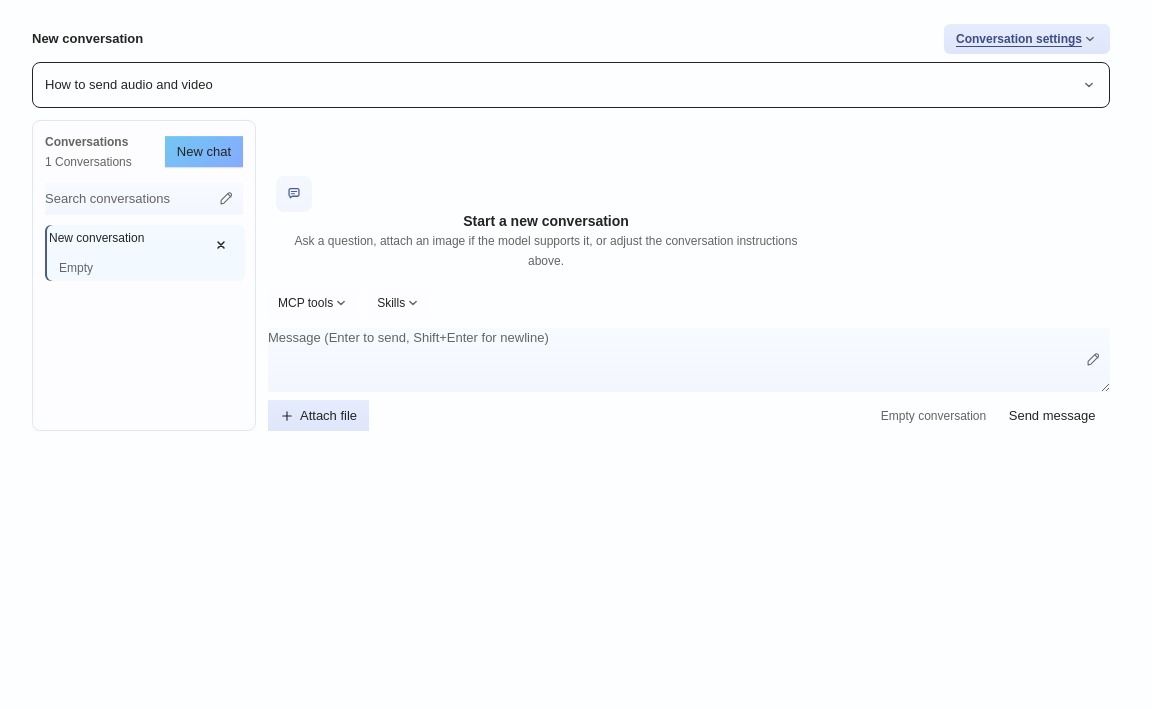
Scenario: retains a request error when an earlier MCP discovery completes with failure
The image size is (1152, 709).
Click the heading "MCP tools".
click(314, 304)  # box [268,288,359,320]
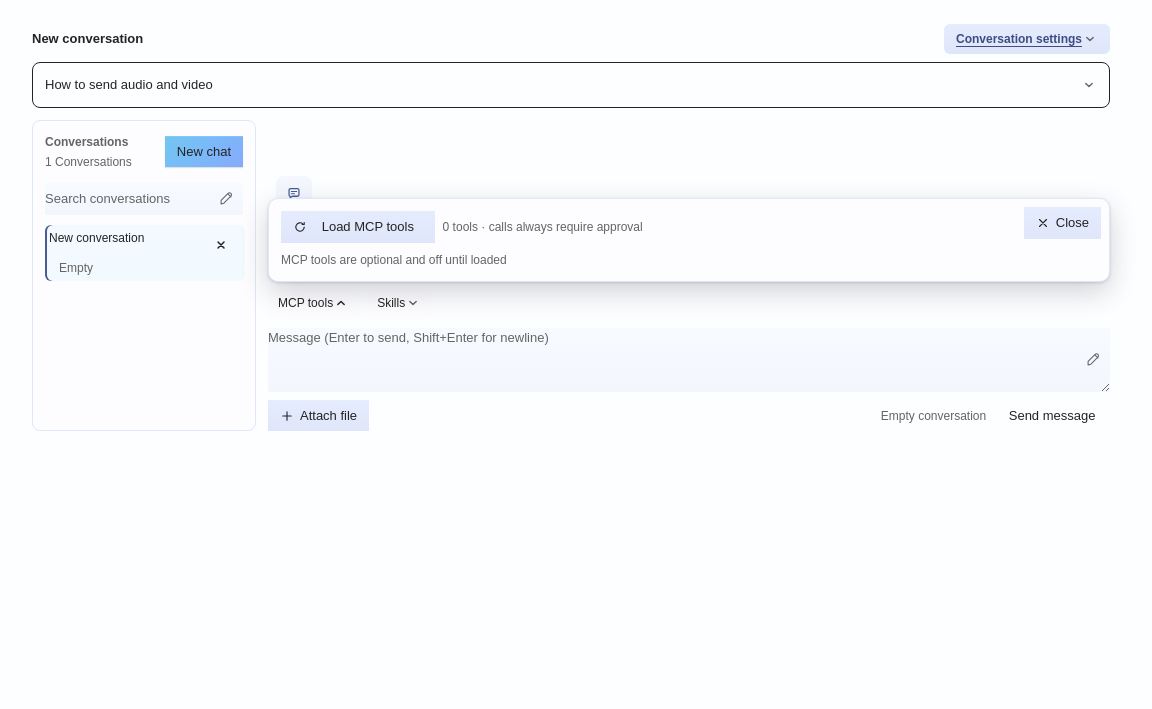
Click the button named "Load MCP tools".
click(358, 227)  # box [281,211,435,243]
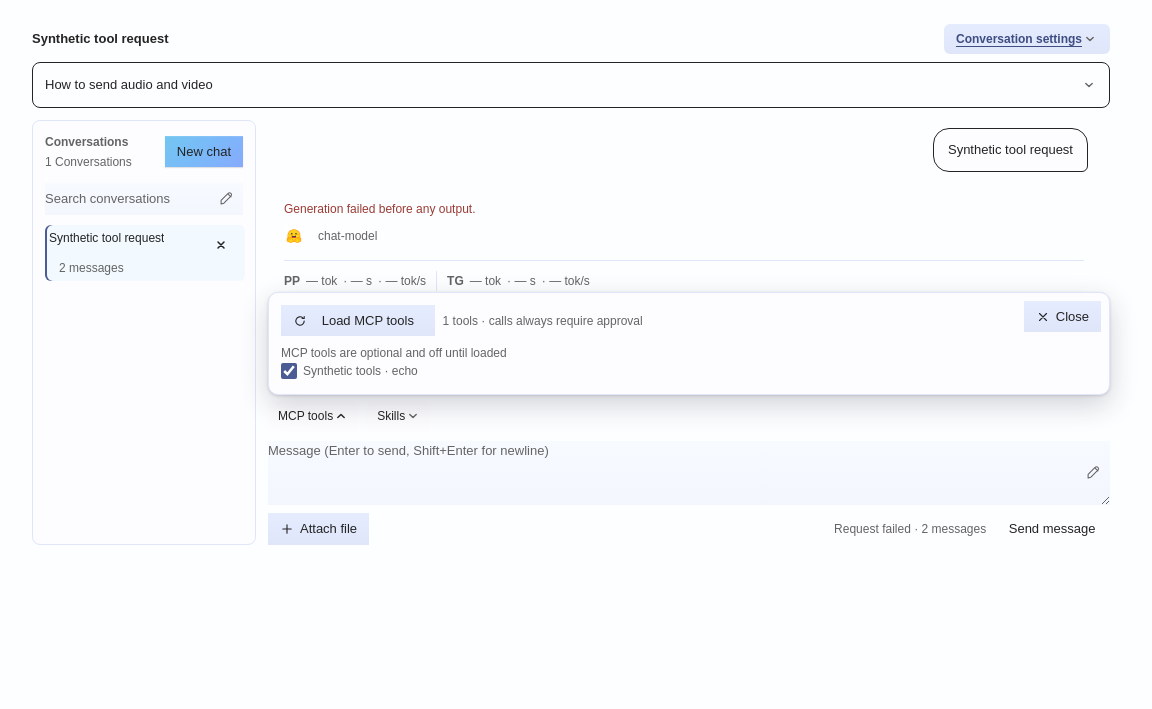
Check: the button named "Load MCP tools" is enabled
Check: the text "Synthetic tools · echo" is shown, box [303,362,418,380]
Click the button named "Load MCP tools".
click(358, 321)  # box [281,305,435,336]
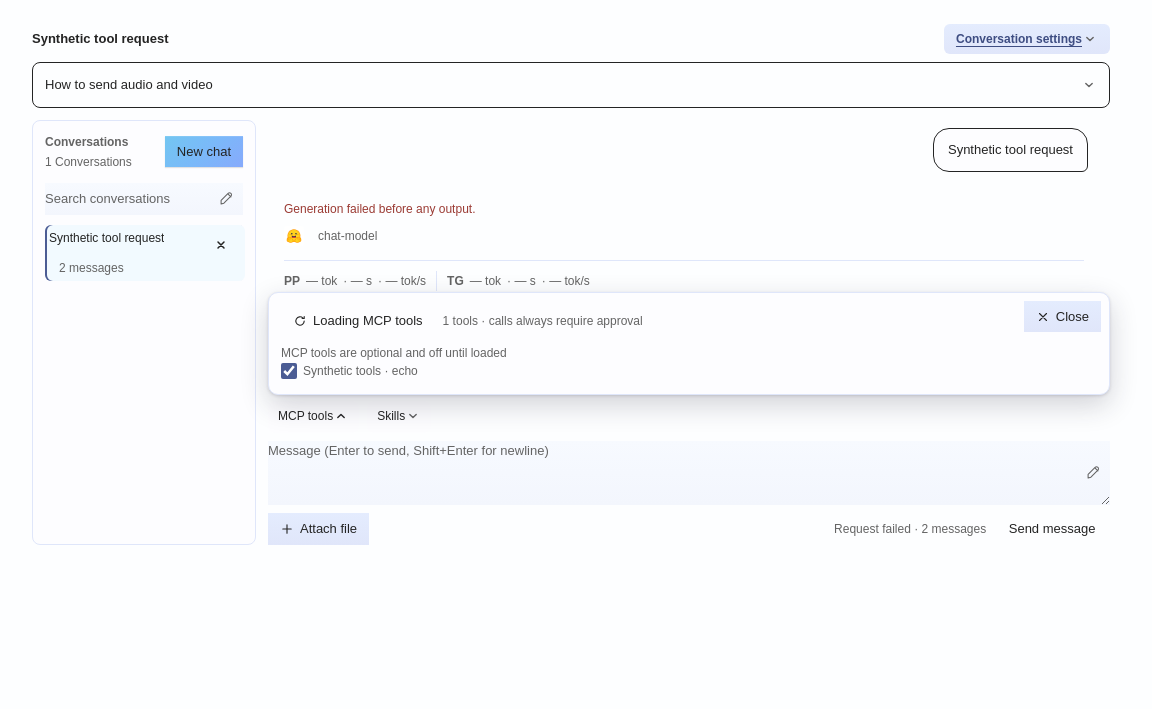
Type "Synthetic tool request" into the text box named "Chat message".
click(689, 473); type("Synthetic tool request")  # box [268,441,1110,505]
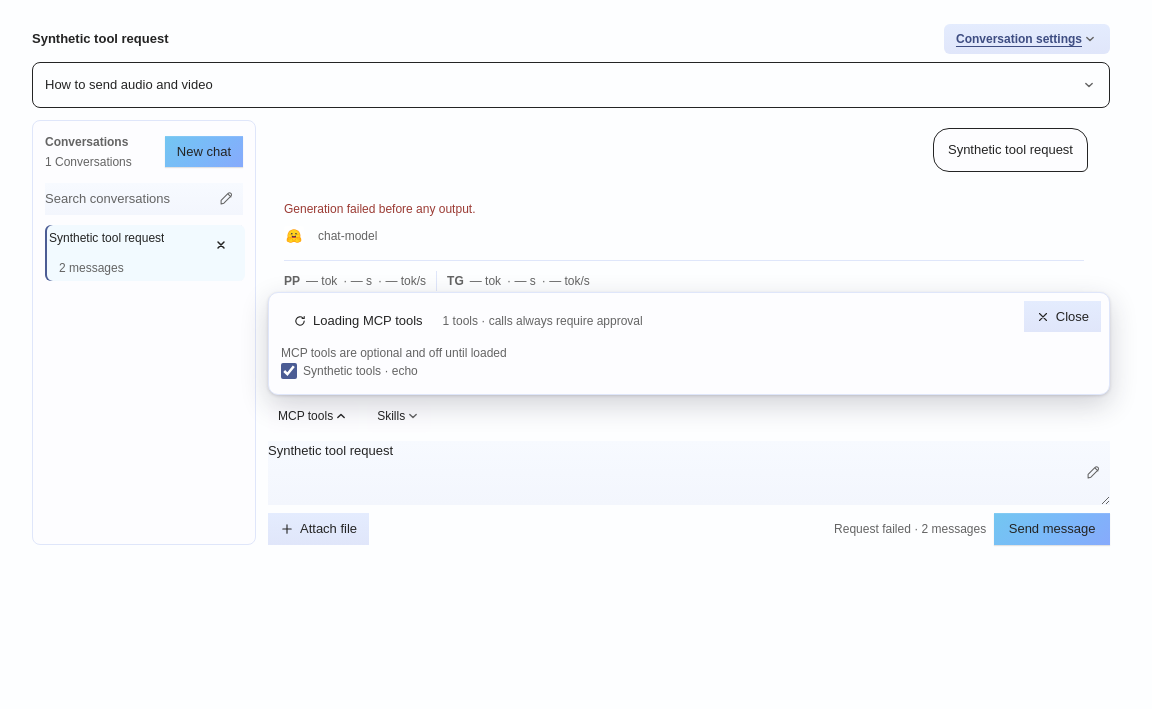
Click the button named "Send message".
click(1052, 529)  # box [994,513,1110,545]
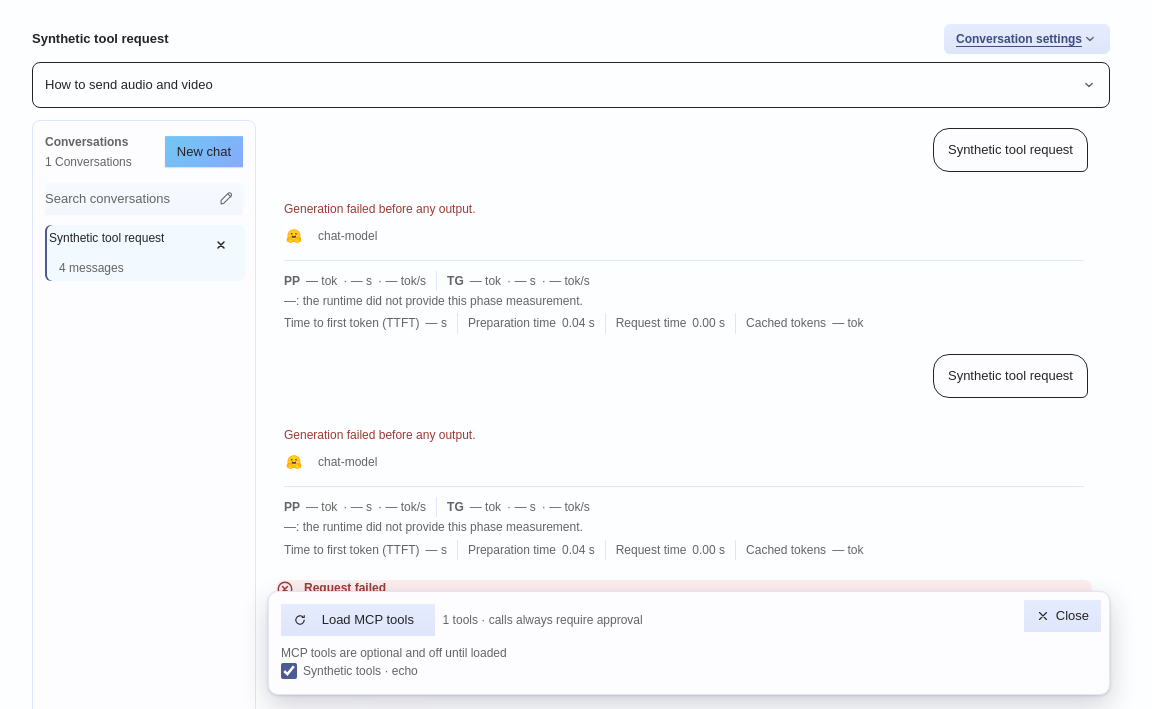
Check: the text "MCP tool discovery failed: Synthetic discovery unavailable" is shown, box [328,677,637,691]
Check: the text "Enable automatic tool choice and select the model tool parser in the runtime profile." is shown, box [304,599,747,613]
Click the button named "Load MCP tools".
click(358, 620)  # box [281,604,435,636]
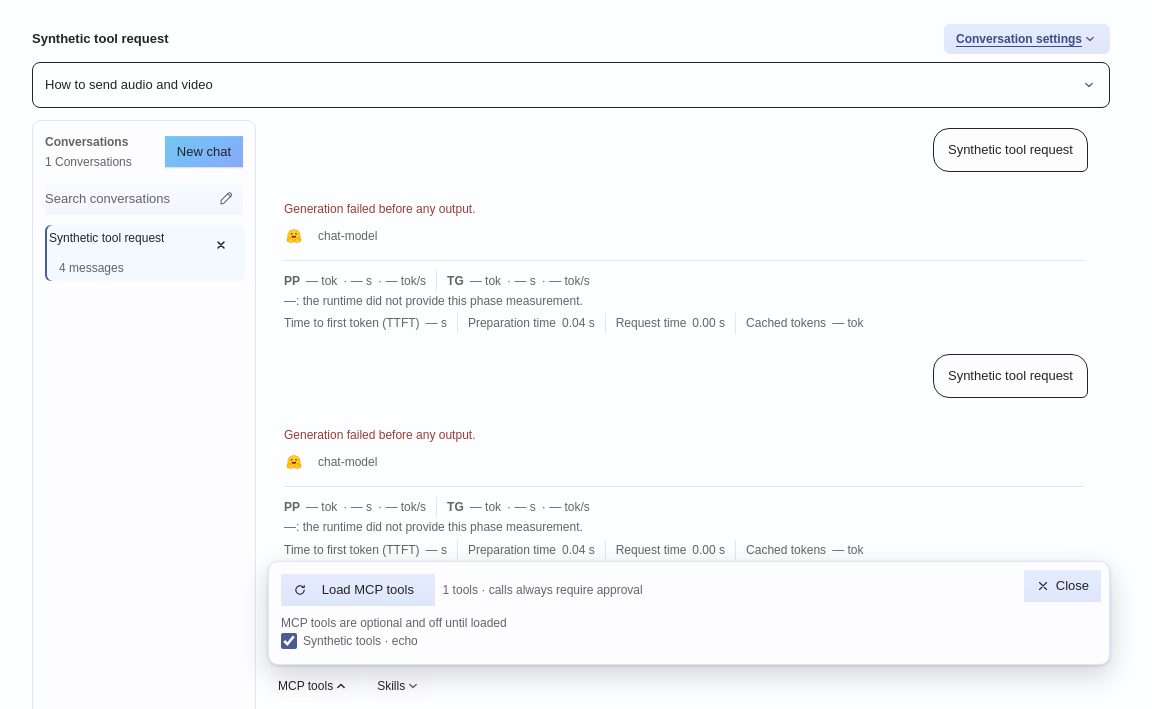
Check: the text "Enable automatic tool choice and select the model tool parser in the runtime profile." is shown, box [304,599,747,613]
Check: the text "MCP tool discovery failed: Synthetic discovery unavailable" is gone
